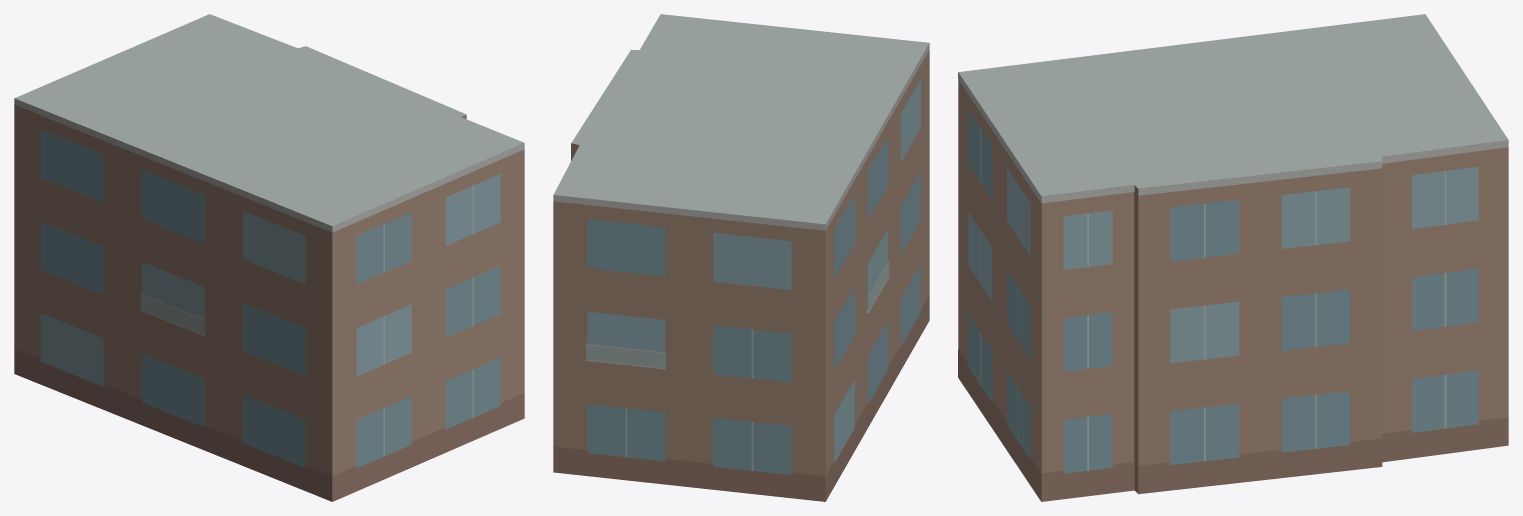
Rendered from survey-upis-32760107.glb.
3 renders of one model, left to right at view 1: azimuth 30°, elevation 25°; view 2: azimuth 150°, elevation 25°; view 3: azimuth 270°, elevation 25°, orthographic. The views are drawn at different scales.
Visible parts, largest first — view 1: survey-upis-32760107.tmp; view 2: survey-upis-32760107.tmp; view 3: survey-upis-32760107.tmp.
Boxes of the visible parts, x1,y1,x2,y2 form: survey-upis-32760107.tmp: (14, 14, 524, 501); survey-upis-32760107.tmp: (553, 14, 929, 501); survey-upis-32760107.tmp: (958, 14, 1508, 501).
Size of the model in its own units: 13.45 by 10.5 by 17.15.
